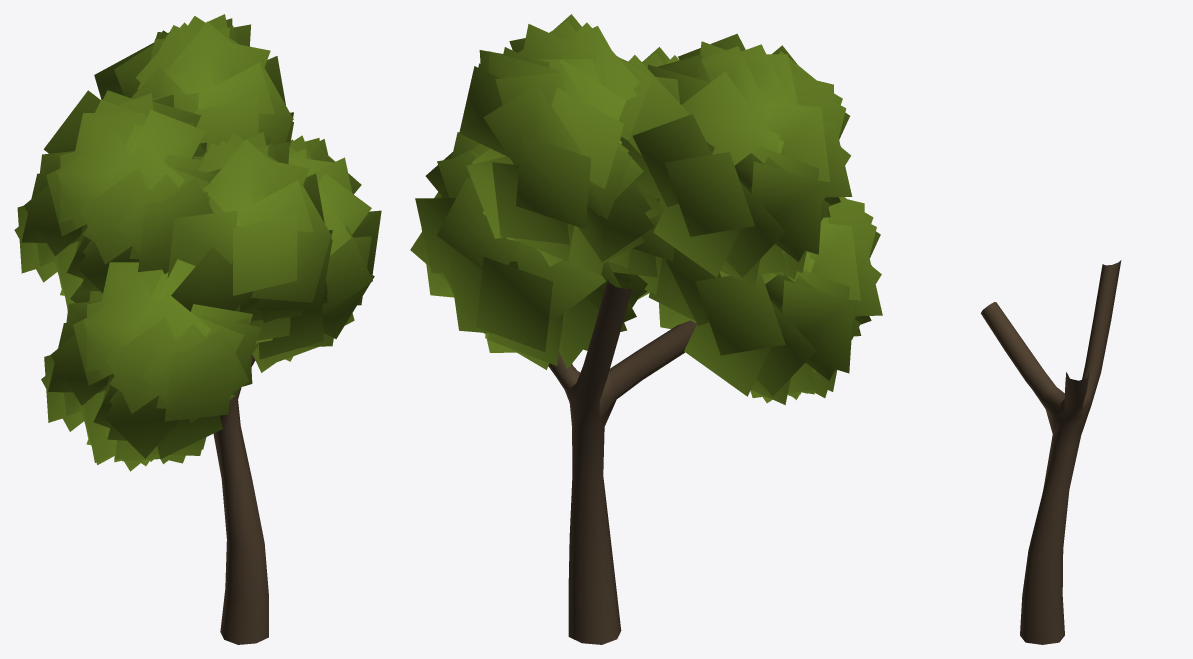
The model's file is OakFlat.glb.
3 views of the same model, side by side, from view 1: azimuth 30°, elevation 25°; view 2: azimuth 150°, elevation 25°; view 3: azimuth 270°, elevation 25° (orthographic). The views are drawn at different scales.
Parts seen in each view (by area): view 1: oakFoliage, oak; view 2: oakFoliage, oak; view 3: oak.
Boxes of the visible parts, box(x1,y1,x2,y2) form: oakFoliage: box(14, 14, 381, 471); oak: box(213, 354, 268, 644); oakFoliage: box(410, 14, 882, 405); oak: box(548, 279, 696, 644); oak: box(980, 260, 1121, 644).
Bounding box in the file's own units: 4.27 × 6.43 × 2.75.
